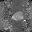people: (11, 11, 24, 21)
